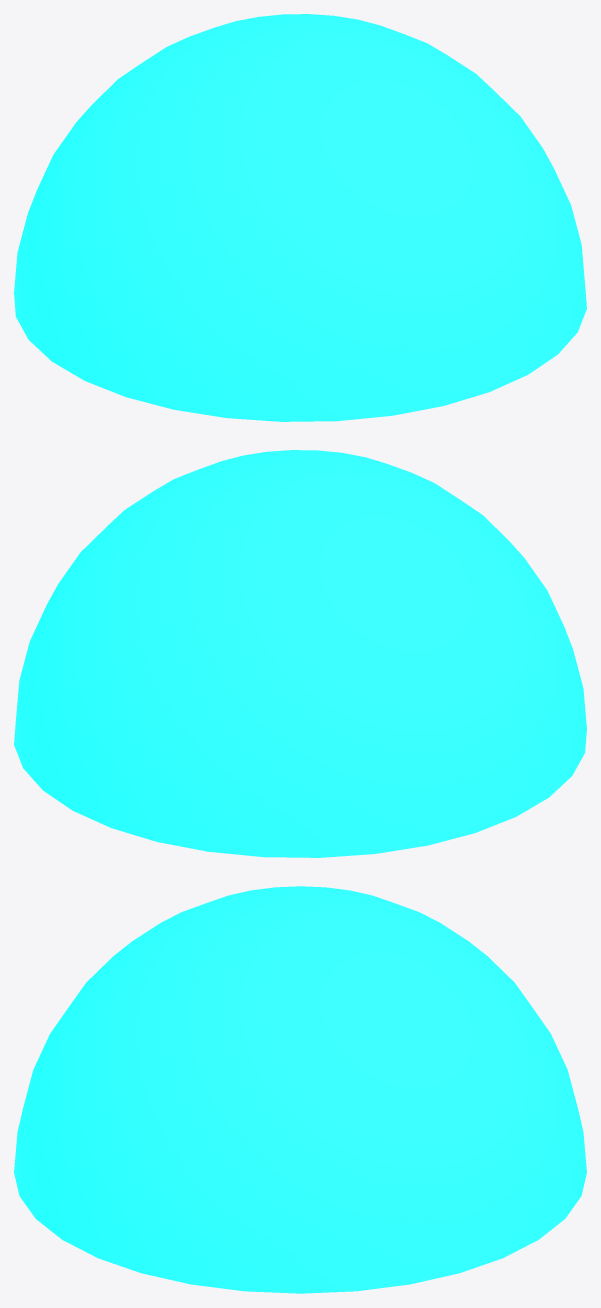
File: VFX_ShieldDome_v01.glb
3 renders of one model, top to bottom at view 1: azimuth 30°, elevation 25°; view 2: azimuth 150°, elevation 25°; view 3: azimuth 270°, elevation 25°, orthographic.
Visible parts, largest first — view 1: MESH_ShieldDome; view 2: MESH_ShieldDome; view 3: MESH_ShieldDome.
Part boxes in pixels (left/top/right/bottom): MESH_ShieldDome: left=14, top=14, right=586, bottom=421; MESH_ShieldDome: left=14, top=450, right=586, bottom=857; MESH_ShieldDome: left=14, top=886, right=586, bottom=1293.
Size of the model in its own units: 4.7 by 2.35 by 4.7.
